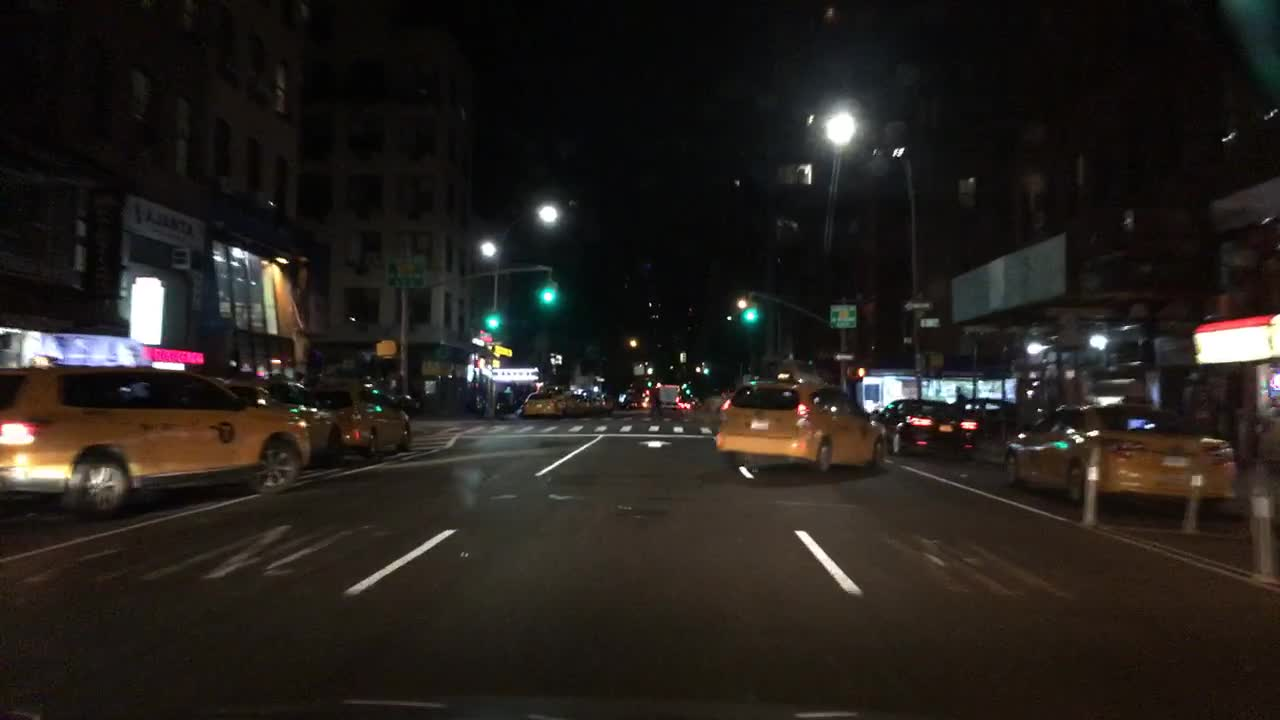car: (0, 362, 313, 528), (997, 398, 1239, 535), (711, 375, 887, 479), (324, 380, 414, 459), (867, 397, 977, 461), (265, 378, 342, 468), (520, 387, 568, 419), (586, 391, 618, 413), (566, 389, 590, 417), (618, 399, 638, 410), (690, 396, 705, 410), (679, 401, 693, 410), (639, 396, 648, 410)
traffic light: (375, 339, 397, 361), (925, 350, 945, 374), (543, 286, 556, 306), (743, 306, 757, 322), (486, 315, 499, 330)
traffic sign: (388, 256, 424, 287), (829, 304, 857, 328), (903, 300, 930, 309), (833, 352, 855, 361), (918, 318, 940, 327)
truck: (648, 385, 680, 419)
